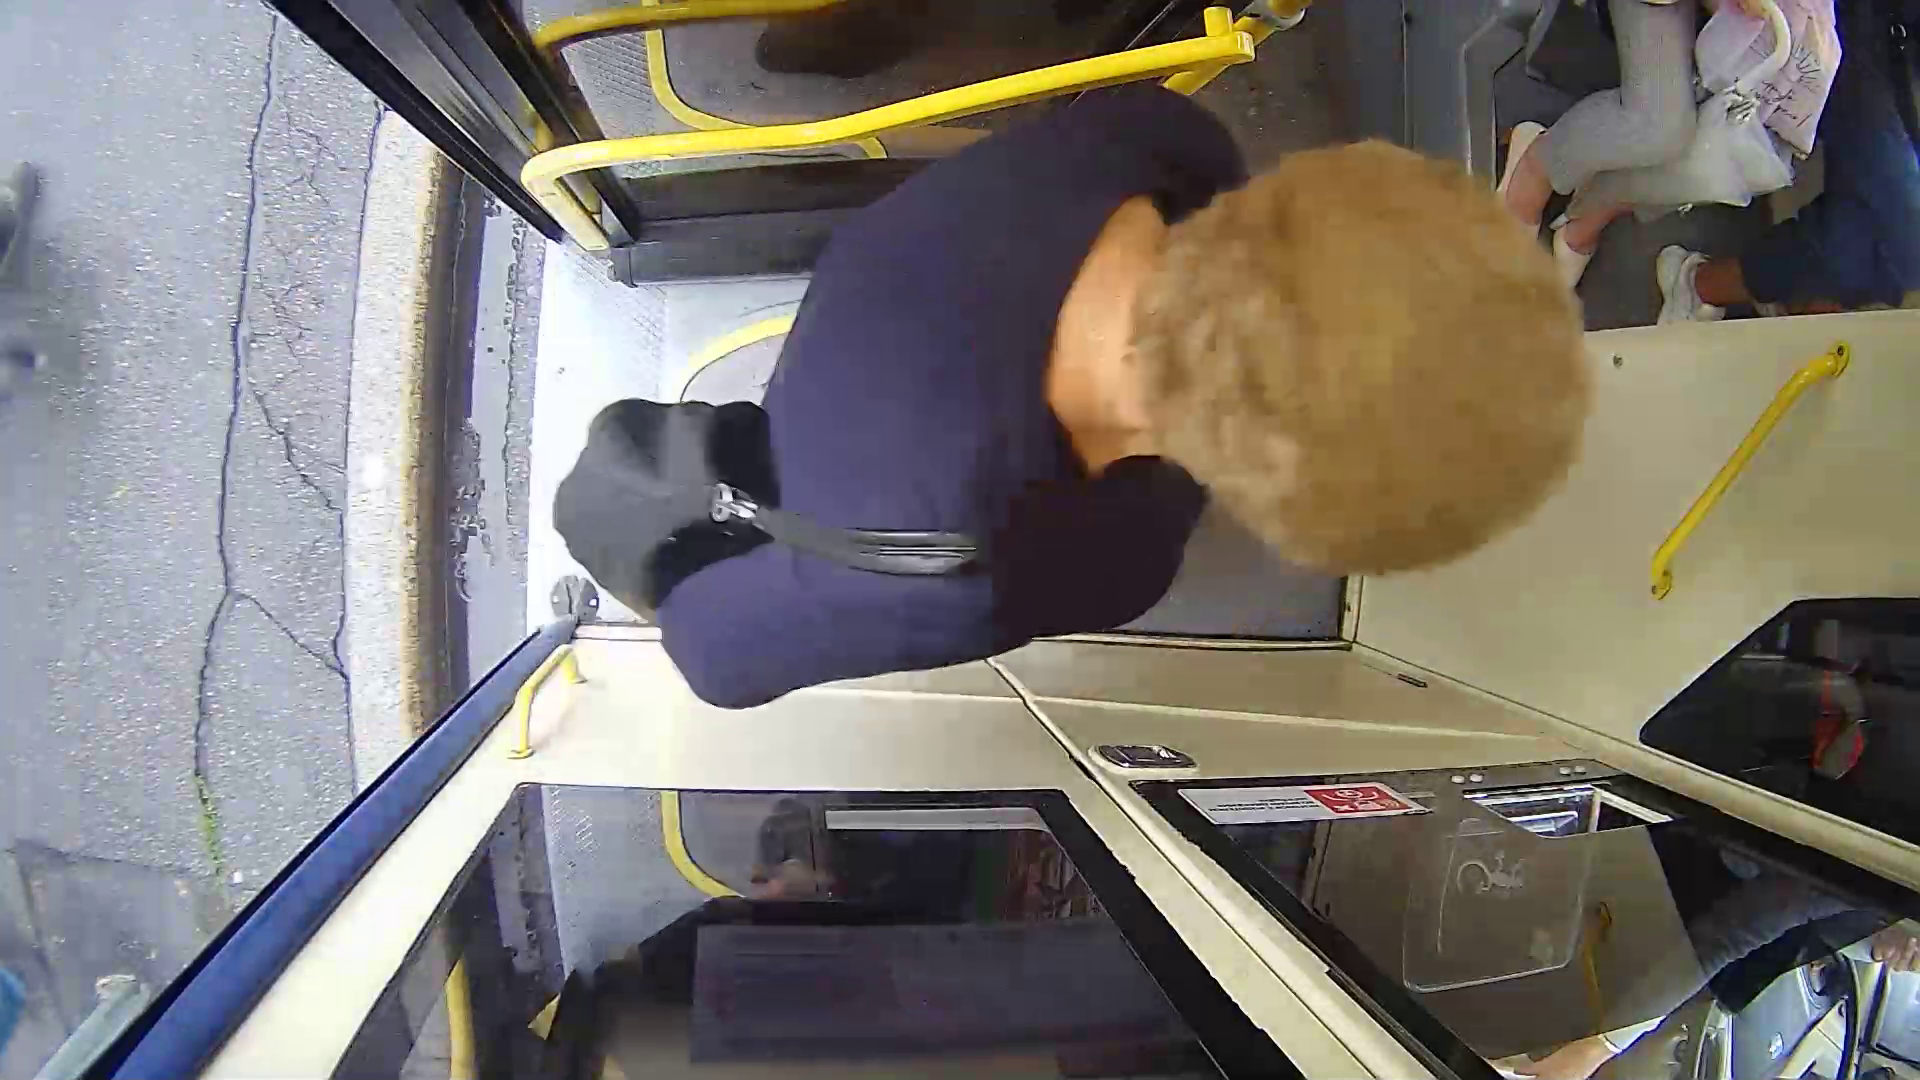person: (620, 55, 1568, 749)
